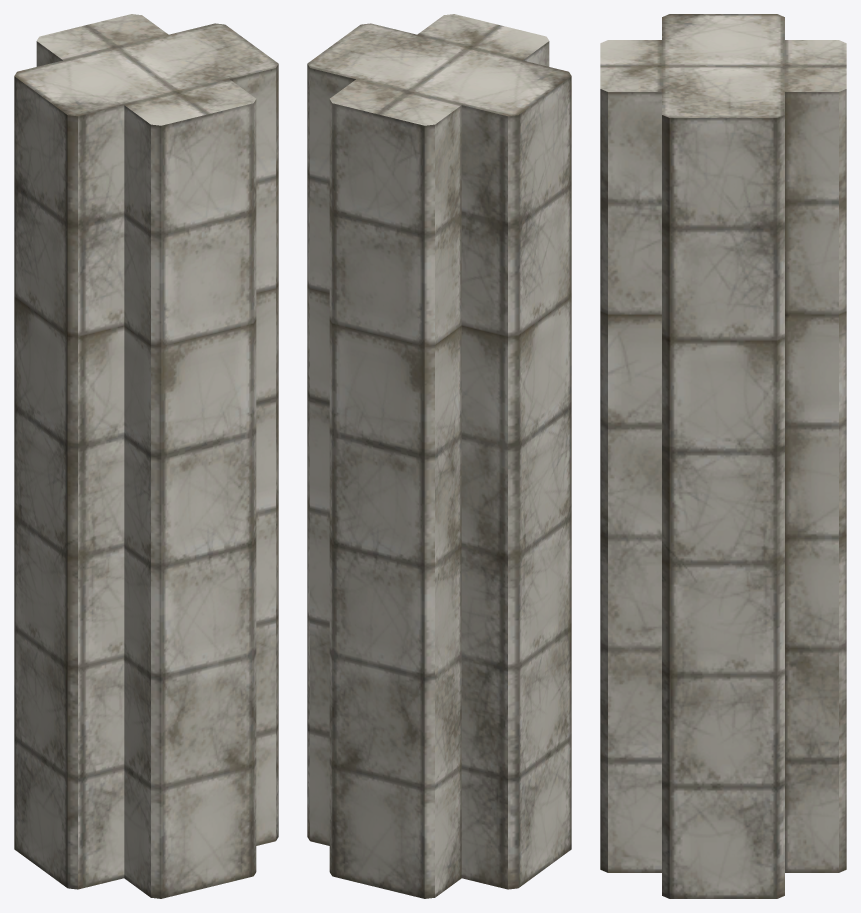
The model's file is Med_Pillar_ALT.obj.
3 renders of one model, left to right at view 1: azimuth 30°, elevation 25°; view 2: azimuth 150°, elevation 25°; view 3: azimuth 270°, elevation 25°, orthographic.
Visible parts, largest first — view 1: Med_Pillar_ALT; view 2: Med_Pillar_ALT; view 3: Med_Pillar_ALT.
Boxes of the visible parts, left/top/right/bottom form: Med_Pillar_ALT: left=14, top=14, right=278, bottom=898; Med_Pillar_ALT: left=307, top=14, right=571, bottom=898; Med_Pillar_ALT: left=600, top=14, right=846, bottom=898.
Size of the model in its own units: 64 by 224 by 64.
Materials: 1 (1 with a texture image).
